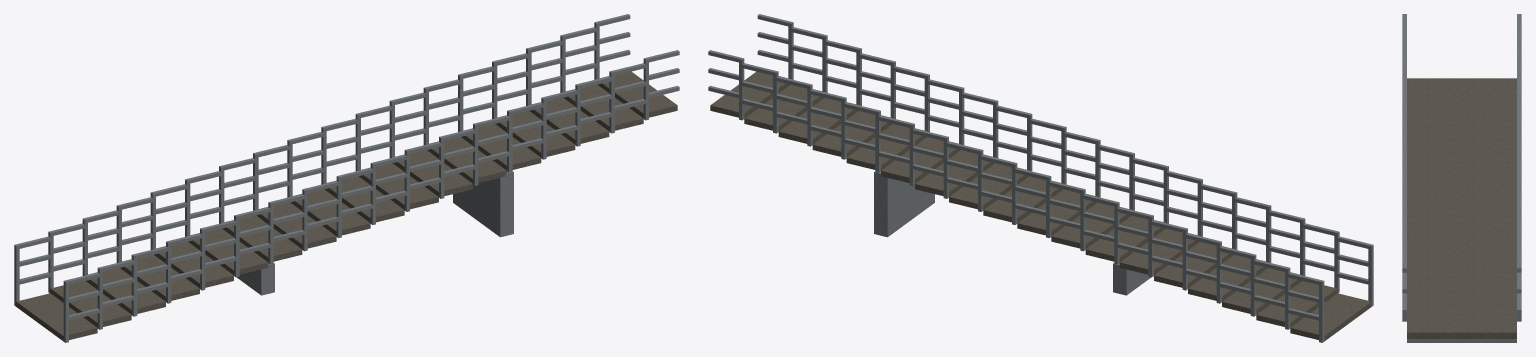
Rendered from cattle_gangway.glb.
The picture shows the model from 3 angles, left to right: view 1: azimuth 30°, elevation 25°; view 2: azimuth 150°, elevation 25°; view 3: azimuth 270°, elevation 25°; orthographic projection. The views are drawn at different scales.
Visible parts, largest first — view 1: cattle_gangway; view 2: cattle_gangway; view 3: cattle_gangway.
Boxes of the visible parts, left/top/right/bottom form: cattle_gangway: left=14, top=14, right=679, bottom=342; cattle_gangway: left=708, top=14, right=1373, bottom=342; cattle_gangway: left=1402, top=14, right=1521, bottom=342.
Bounding box in the file's own units: 18 × 4.03 × 2.6.
2 materials, 2 textured.
